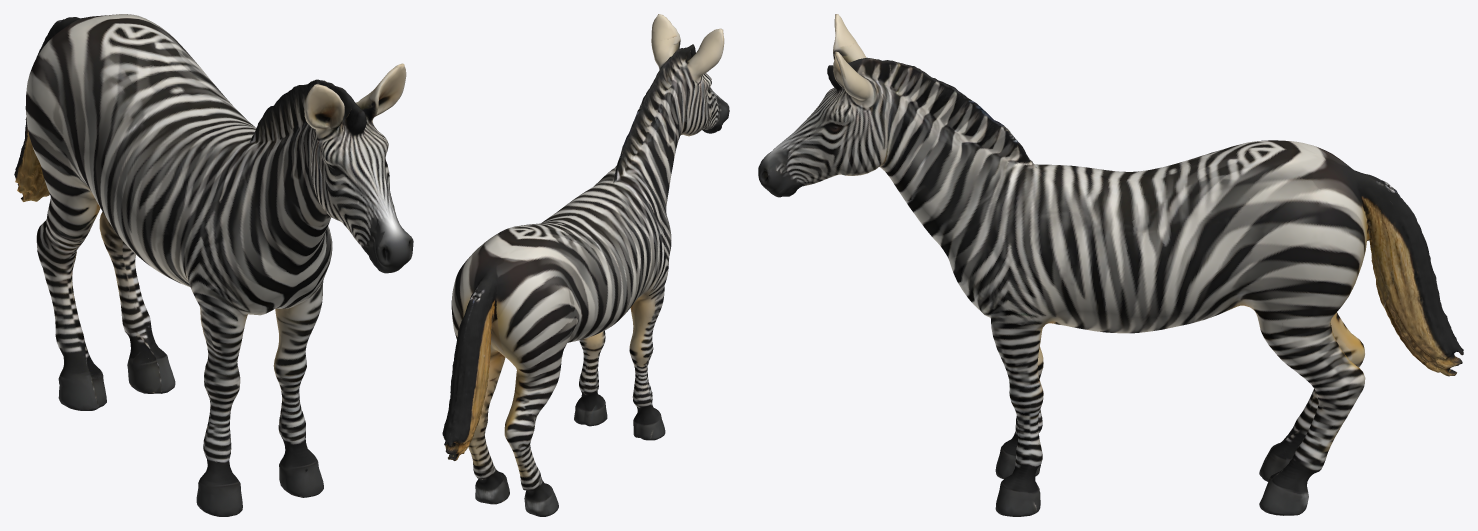
The model's file is Zebra.glb.
The picture shows the model from 3 angles, left to right: view 1: azimuth 30°, elevation 25°; view 2: azimuth 150°, elevation 25°; view 3: azimuth 270°, elevation 25°; orthographic projection. The views are drawn at different scales.
Size of the model in its own units: 0.4322 by 1.38 by 1.91.
1 material, 1 textured.
